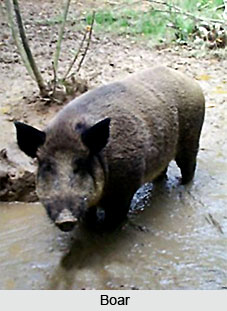wild boar: (11, 55, 216, 247)
